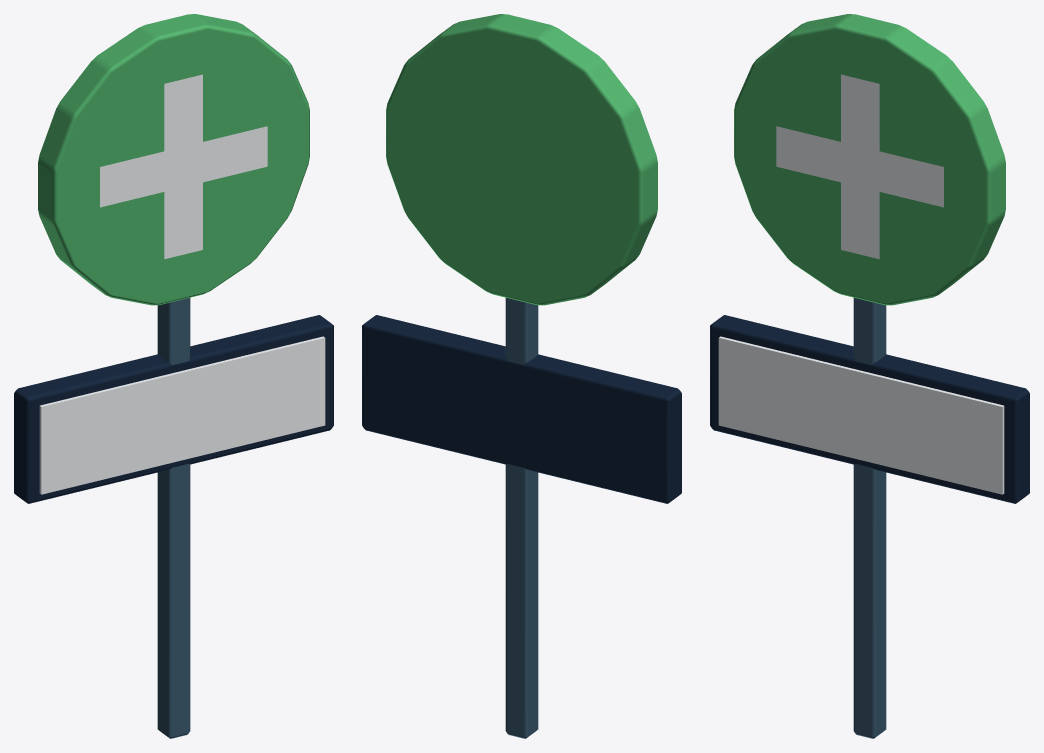
File: CM_Tycoon_ExpansionSign.fbx
3 renders of one model, left to right at view 1: azimuth 30°, elevation 25°; view 2: azimuth 150°, elevation 25°; view 3: azimuth 330°, elevation 25°, orthographic.
Parts seen in each view (by area): view 1: Body, Face; view 2: Body; view 3: Body, Face.
Boxes of the visible parts, x1=… form: Body: x1=14, y1=14, x2=333, y2=738; Face: x1=39, y1=336, x2=325, y2=494; Body: x1=362, y1=14, x2=681, y2=738; Body: x1=710, y1=14, x2=1029, y2=738; Face: x1=718, y1=336, x2=1004, y2=494.
Size of the model in its own units: 4.8 by 0.512 by 10.5.
1 material, 1 textured.
